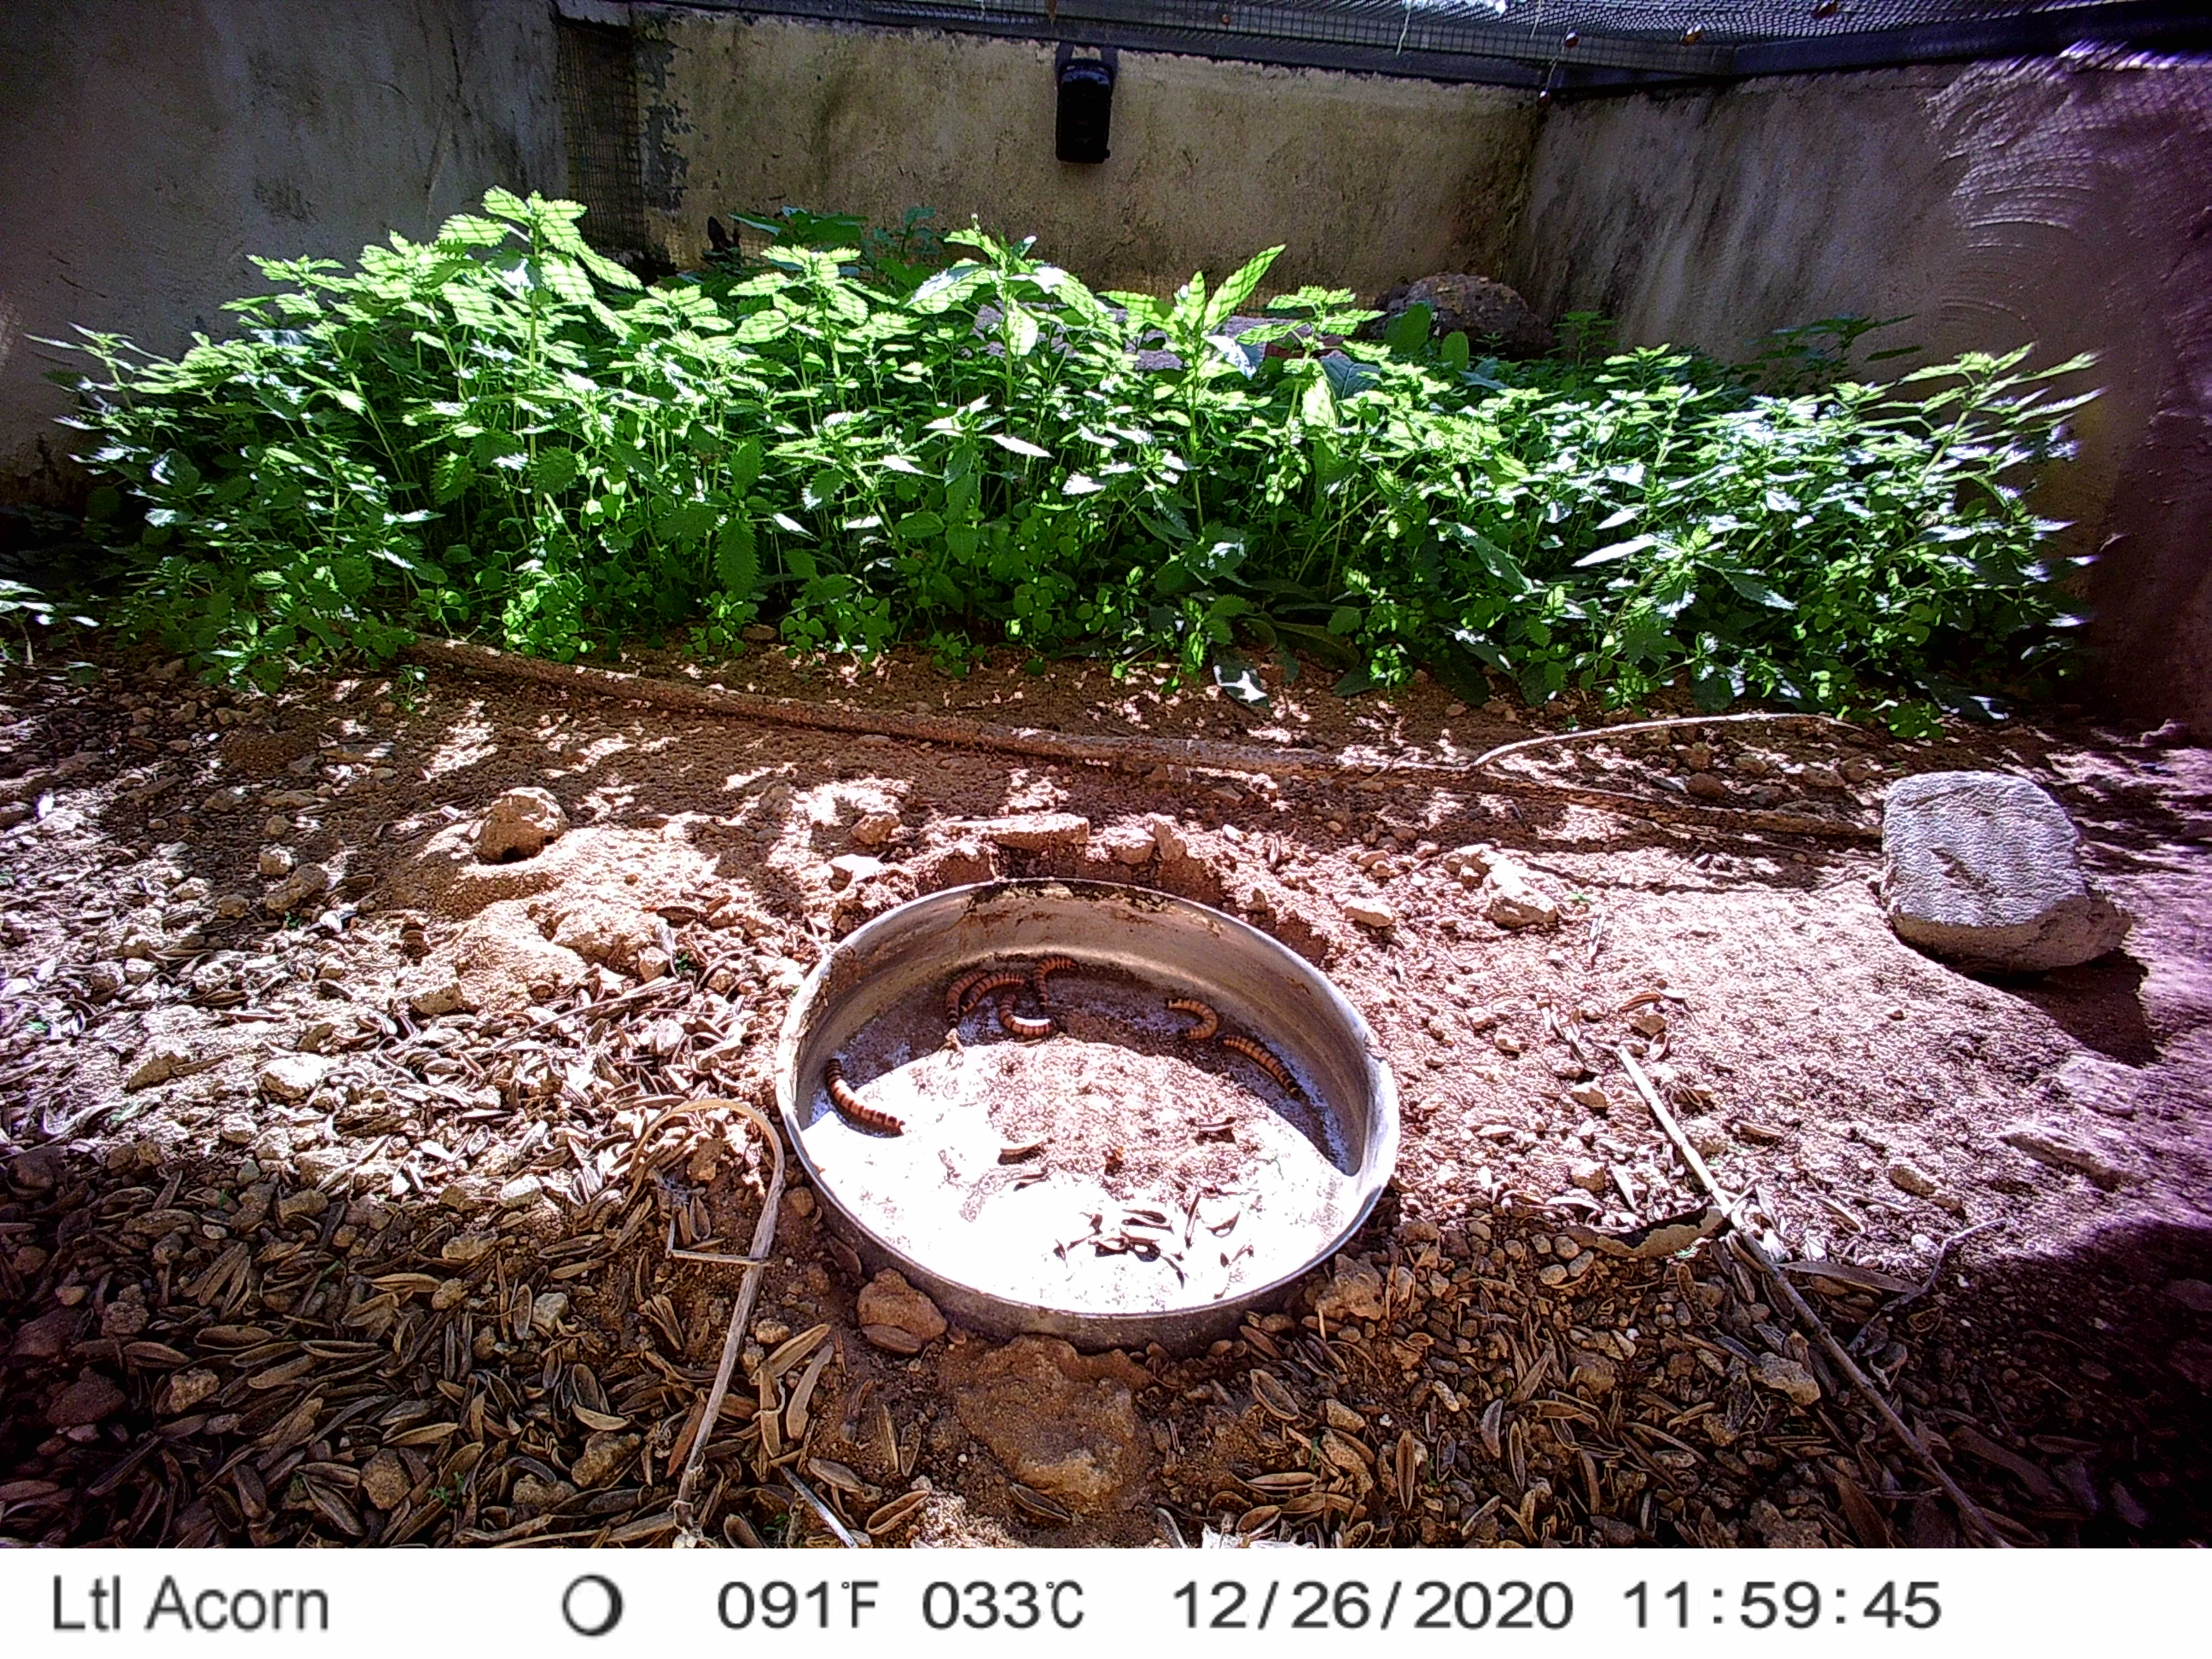lizard: (698, 207, 751, 272)
